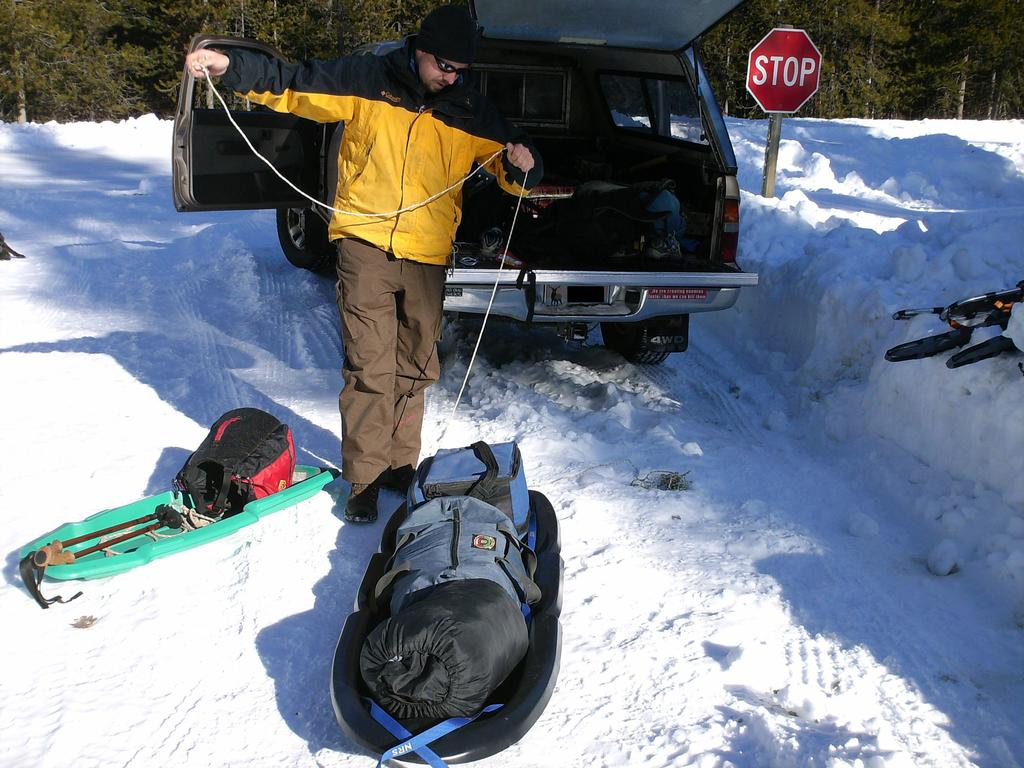Person: (185, 5, 542, 521)
